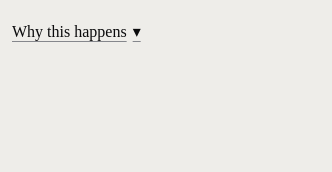
Test case: Fold › keeps its words in the page but out of the first screen until the button opens them (spec 20.1)
Click the button "Why this happens ▾" at (76, 32), box [12, 12, 141, 52]
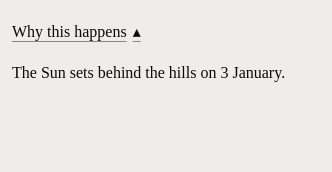
Result: the button "Why this happens ▴" is expanded
Click the button "Why this happens ▴" at (76, 32), box [12, 12, 141, 52]
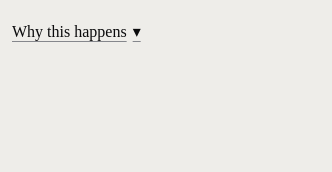
Result: the button "Why this happens ▾" is collapsed at [12, 12, 141, 52]
